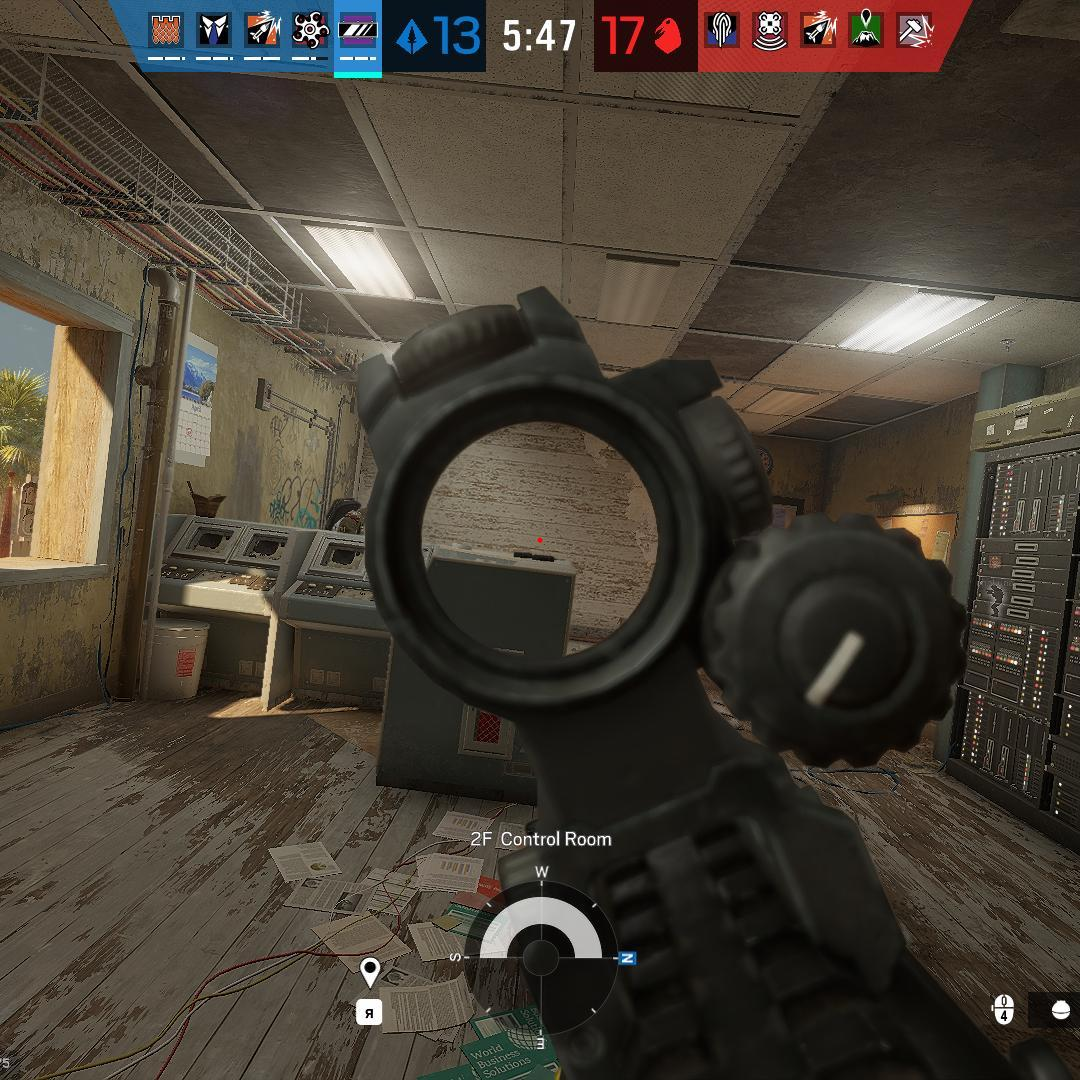Character: (325, 495, 369, 536)
